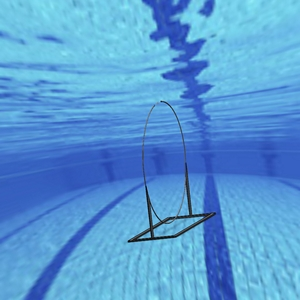circle: (125, 99, 218, 243)
